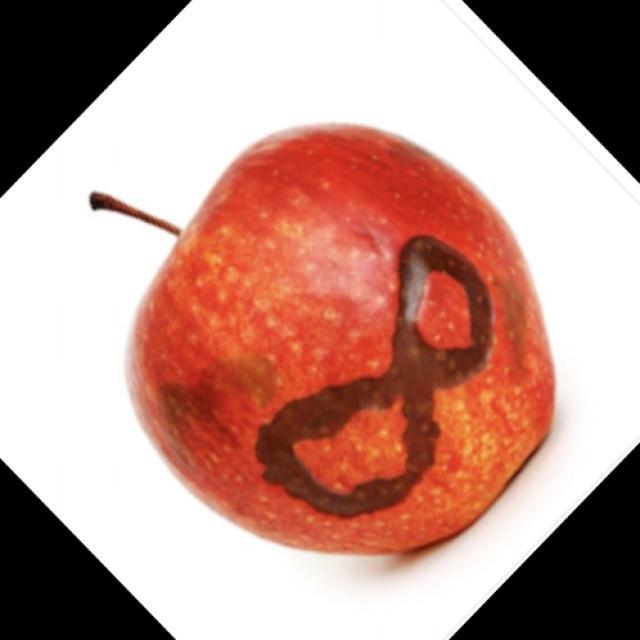Rotten: (147, 132, 553, 602)
